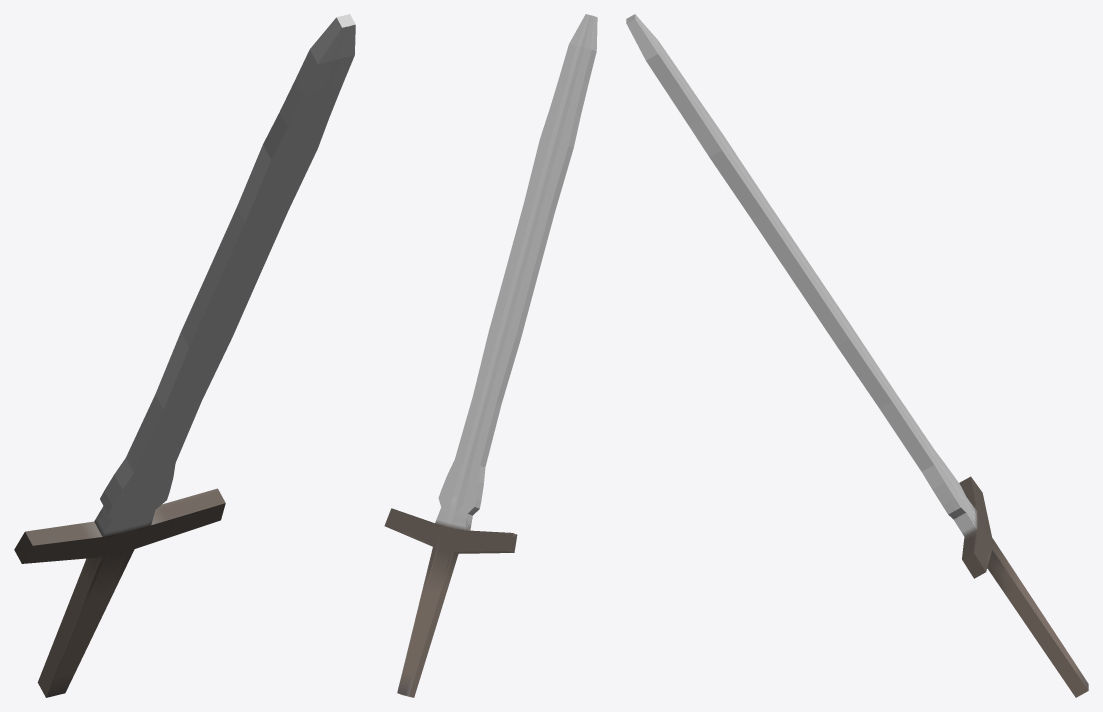
File: sword_000016.obj
The picture shows the model from 3 angles, left to right: view 1: azimuth 30°, elevation 25°; view 2: azimuth 150°, elevation 25°; view 3: azimuth 270°, elevation 25°; orthographic projection. The views are drawn at different scales.
Bounding box in the file's own units: 0.1417 × 0.6016 × 0.3726.
